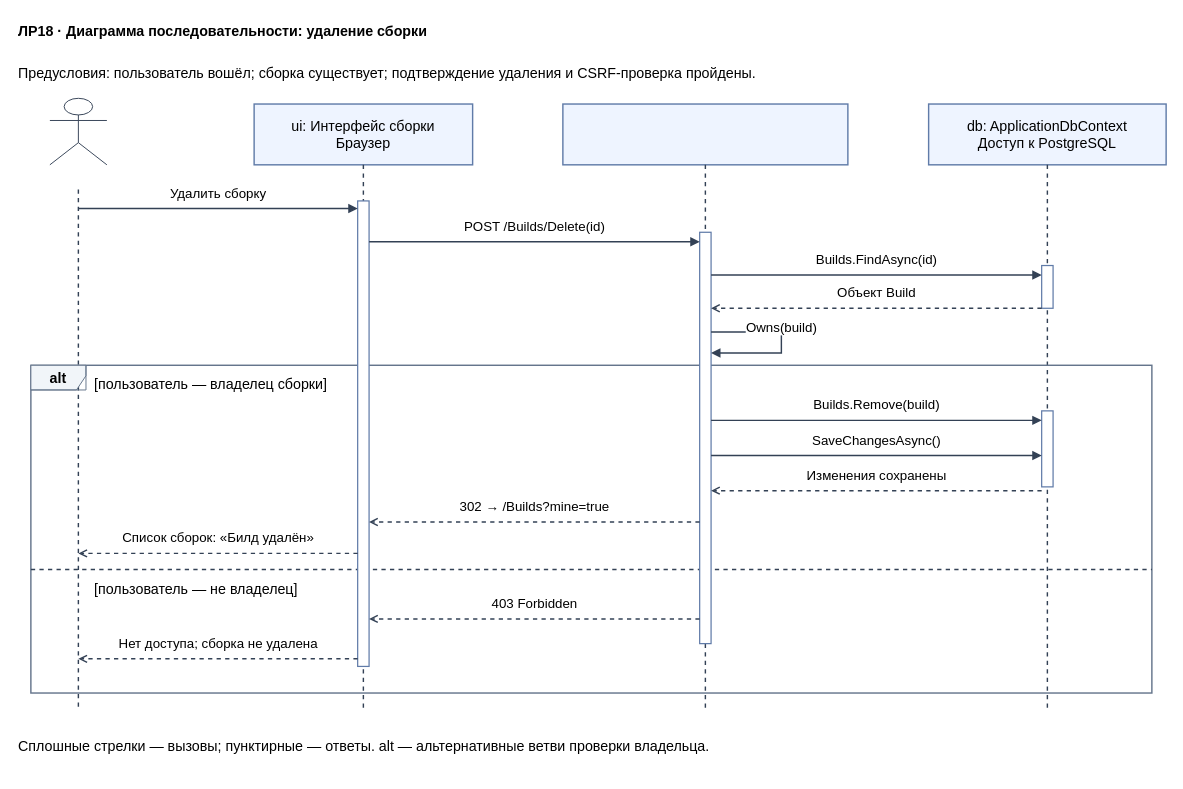
The diagram is 1183 pixels wide and 789 high, and some of its shapes have lost their labels. Here are the shapes that lost their labels. From the top down, the centre of each, then its label:
point 78,131: Пользователь
point 705,134: controller: BuildsController
